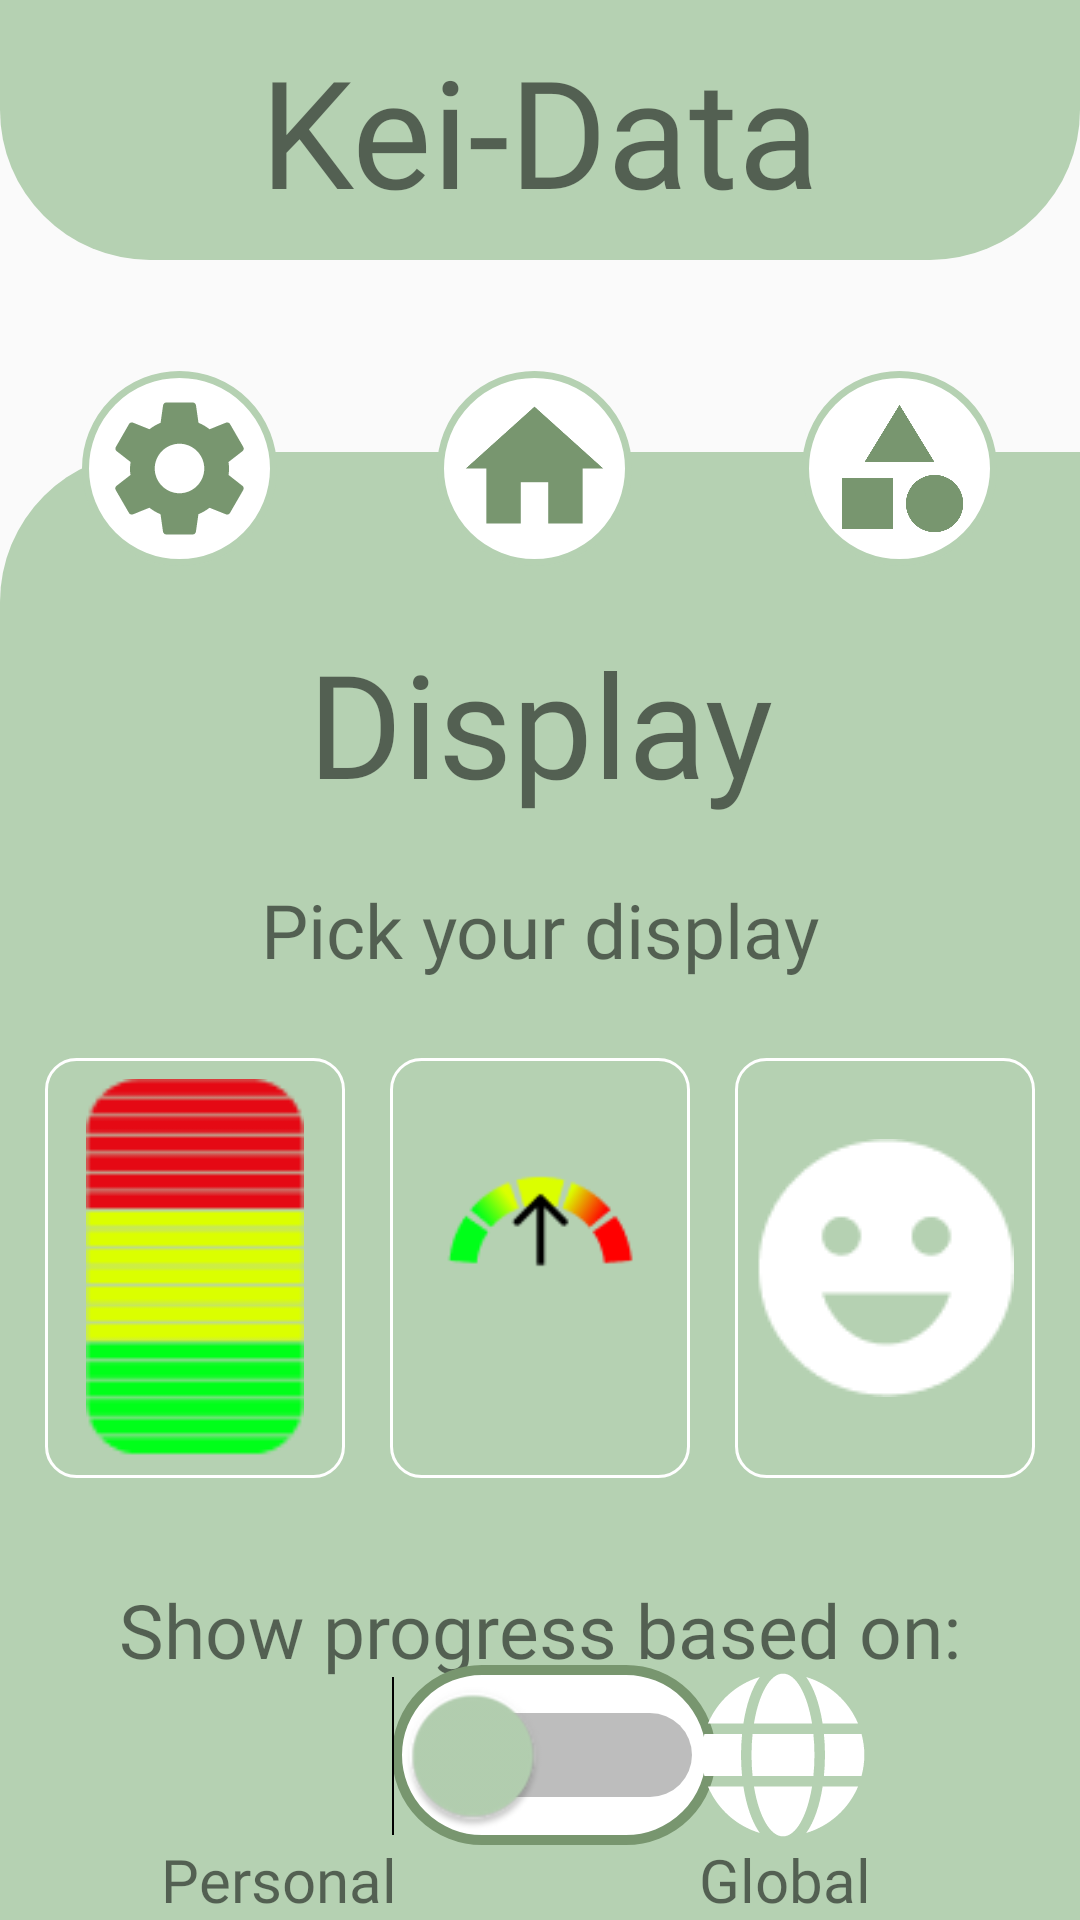

Where to tap for icons on this 1080*1920 app screen, as [x,y]:
category: [899,468]
home: [534,468]
settings: [179,468]
